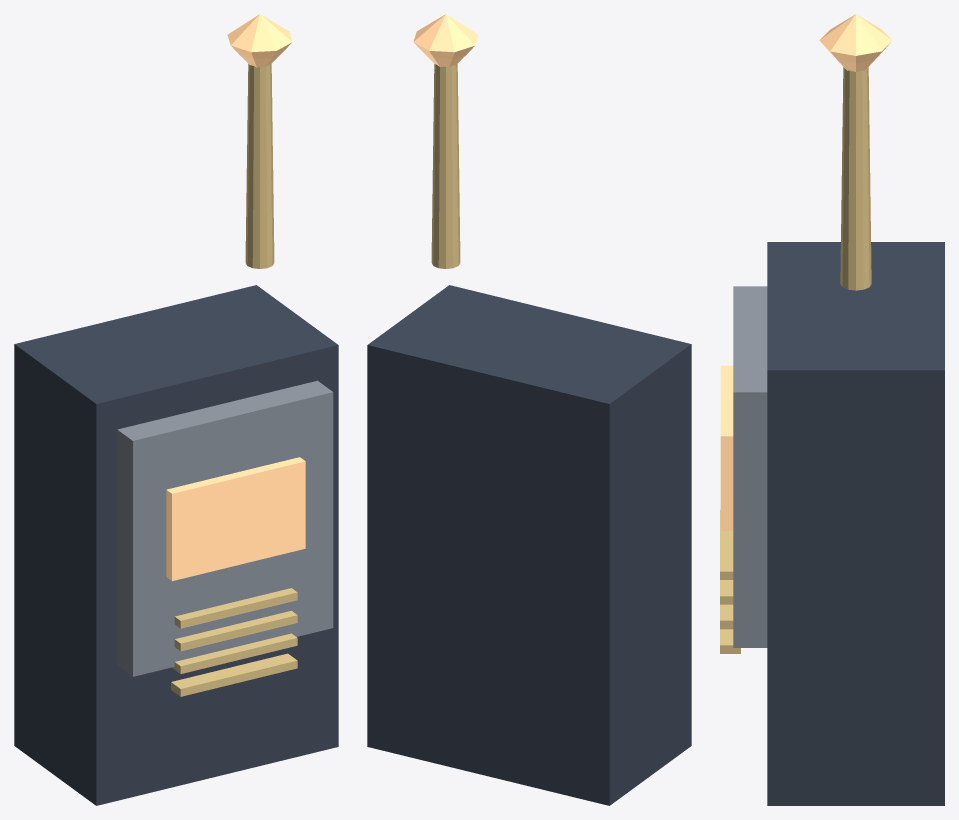
Rendered from jawo_relic.gltf.
3 renders of one model, left to right at view 1: azimuth 30°, elevation 25°; view 2: azimuth 150°, elevation 25°; view 3: azimuth 270°, elevation 25°, orthographic. The views are drawn at different scales.
Parts seen in each view (by area): view 1: jawo_radio_relic_review; view 2: jawo_radio_relic_review; view 3: jawo_radio_relic_review.
Part boxes in pixels (left/top/right/bottom): jawo_radio_relic_review: left=14, top=14, right=338, bottom=805; jawo_radio_relic_review: left=367, top=14, right=691, bottom=805; jawo_radio_relic_review: left=720, top=14, right=944, bottom=805.
Size of the model in its own units: 0.29 by 0.815 by 0.215.
